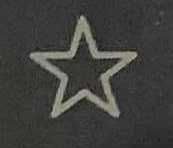star: (14, 6, 154, 135)
